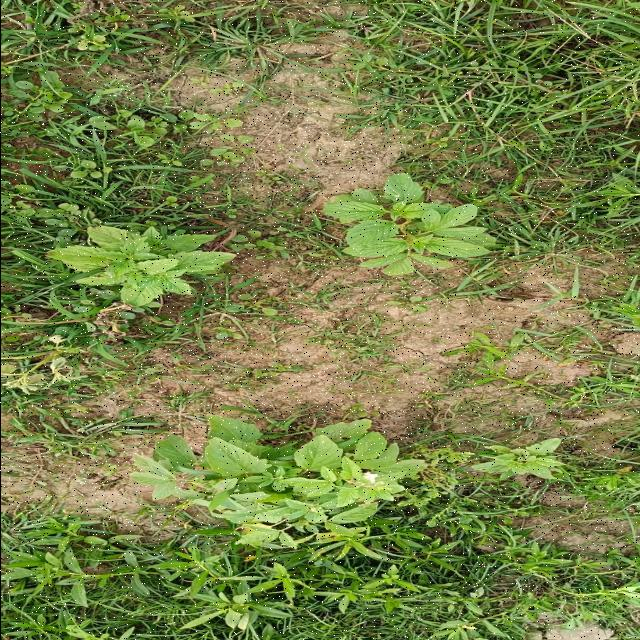plant: (130, 416, 427, 546), (324, 173, 494, 276), (48, 225, 235, 308)
